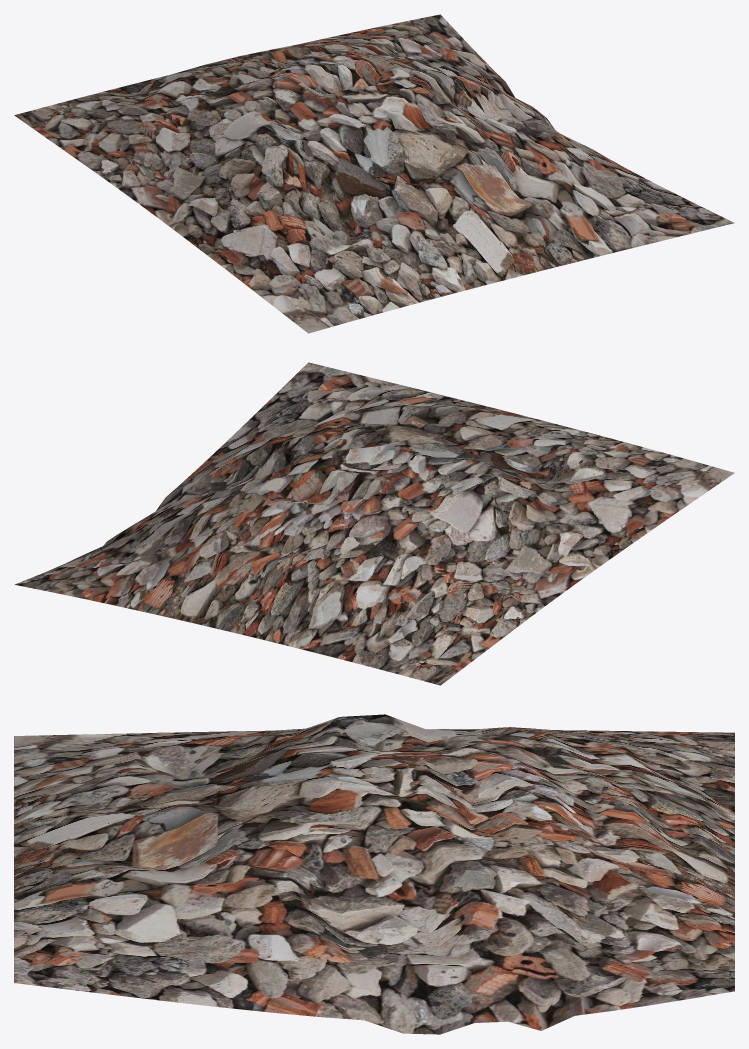
Rendered from груда.fbx.
3 views of the same model, one above another, from view 1: azimuth 30°, elevation 25°; view 2: azimuth 150°, elevation 25°; view 3: azimuth 270°, elevation 25° (orthographic). The views are drawn at different scales.
Visible parts, largest first — view 1: Plane001; view 2: Plane001; view 3: Plane001.
Boxes of the visible parts, left/top/right/bottom form: Plane001: left=14, top=14, right=734, bottom=333; Plane001: left=14, top=362, right=734, bottom=685; Plane001: left=14, top=714, right=734, bottom=1034.
Bounding box in the file's own units: 4788 × 1143 × 5725.
1 material, 1 textured.
